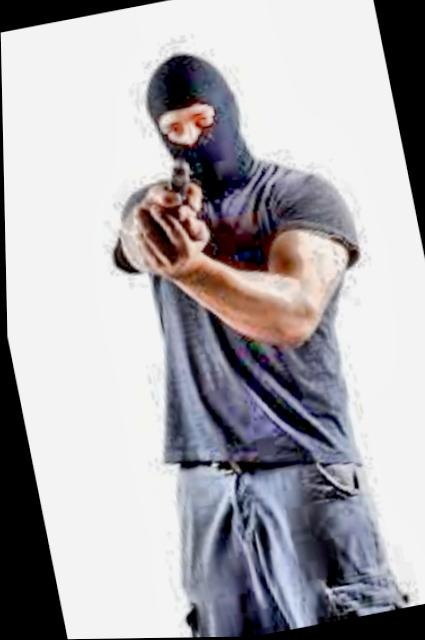pistol: (156, 153, 197, 219)
